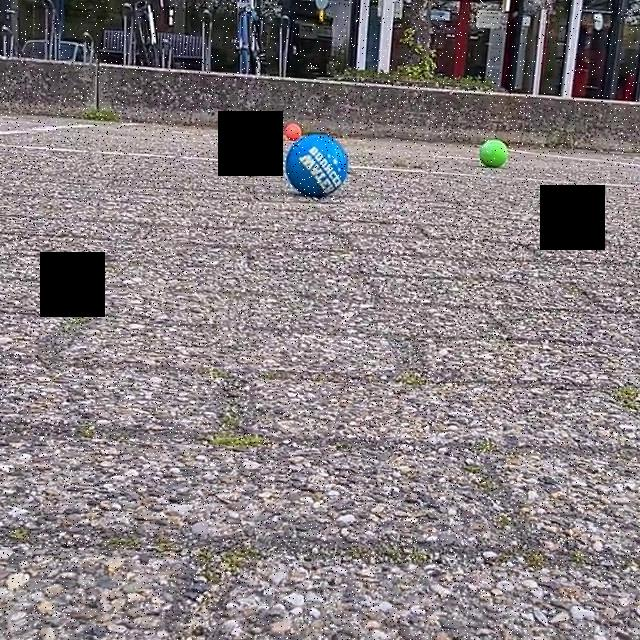ball: (480, 137, 510, 169), (282, 119, 306, 141)
